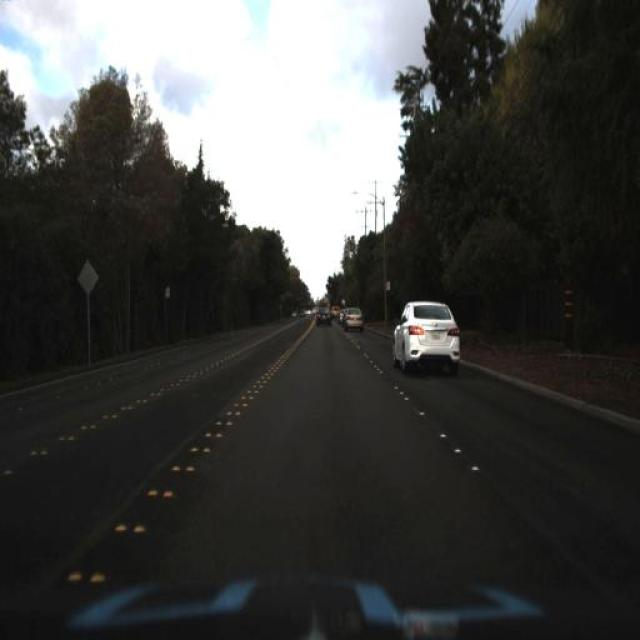car: (388, 296, 463, 386), (344, 303, 365, 337), (314, 302, 334, 326)
